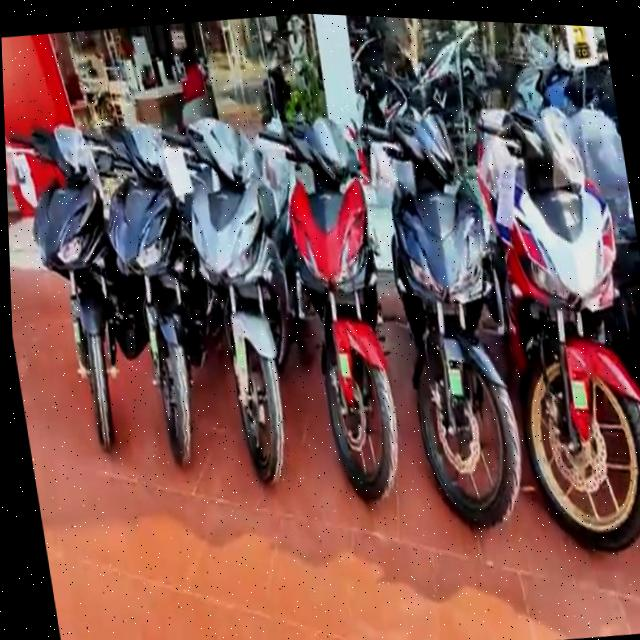motorcycle: (350, 79, 551, 536), (463, 80, 640, 570), (242, 79, 431, 520), (15, 99, 170, 502), (158, 109, 311, 508), (91, 106, 231, 496)
